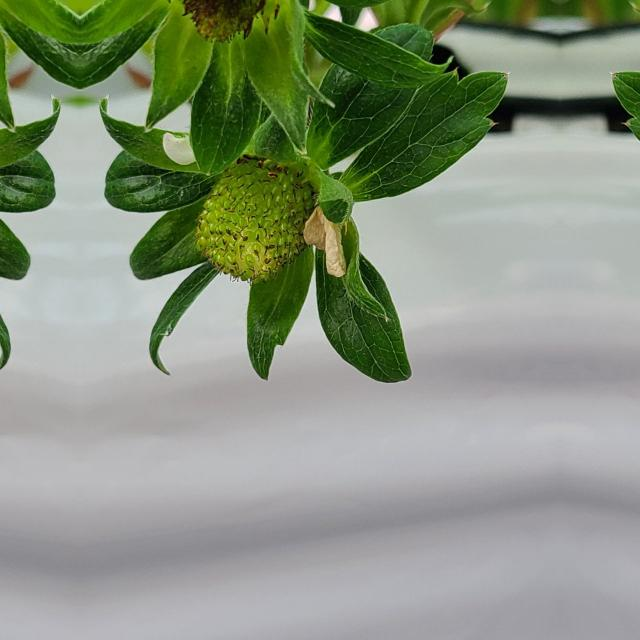Health_25: (197, 160, 313, 284)
